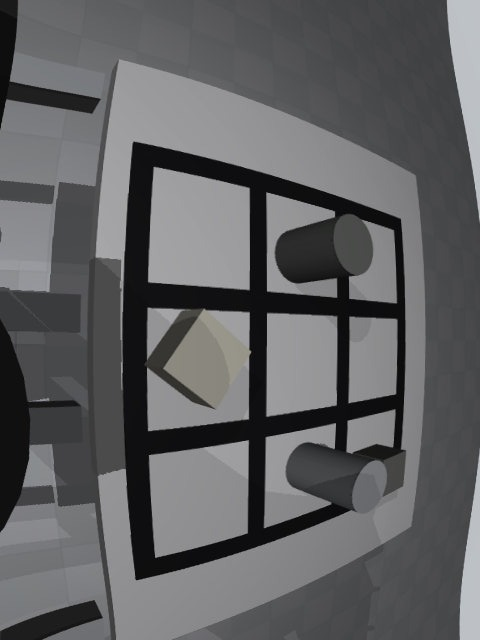can: (285, 442, 387, 514)
cube: (353, 444, 406, 496)
cylinder: (275, 214, 374, 284)
foam: (144, 309, 252, 410)
